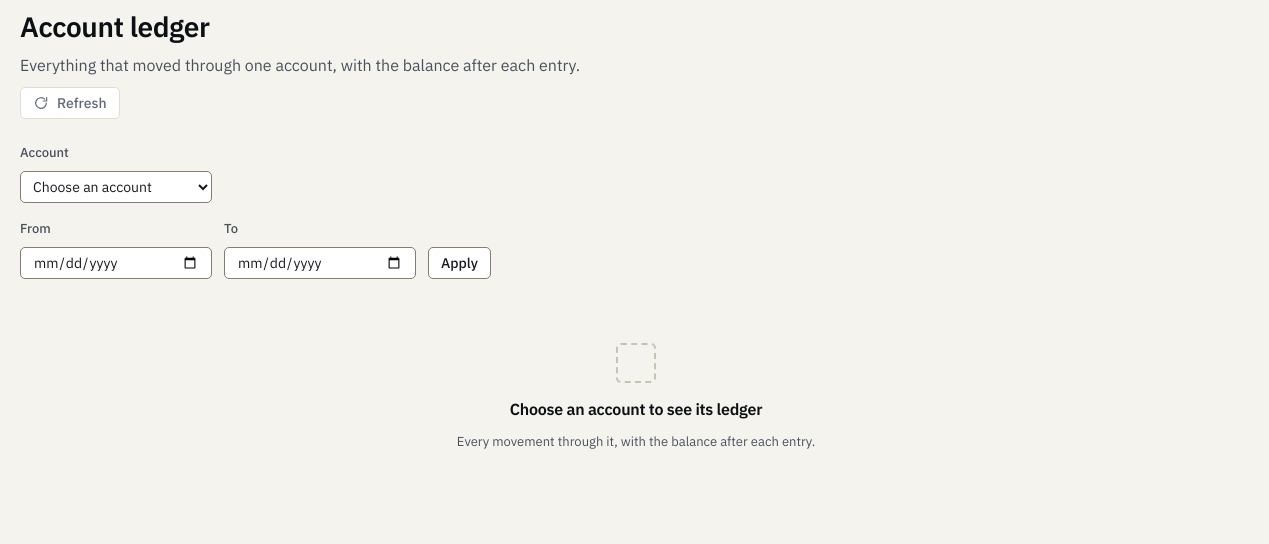
Scenario: AccountLedger › shows the running balance against each movement
Select "1210 · Bank Account" in the dropdown labelled "Account" at (116, 187), box [20,171,212,203]
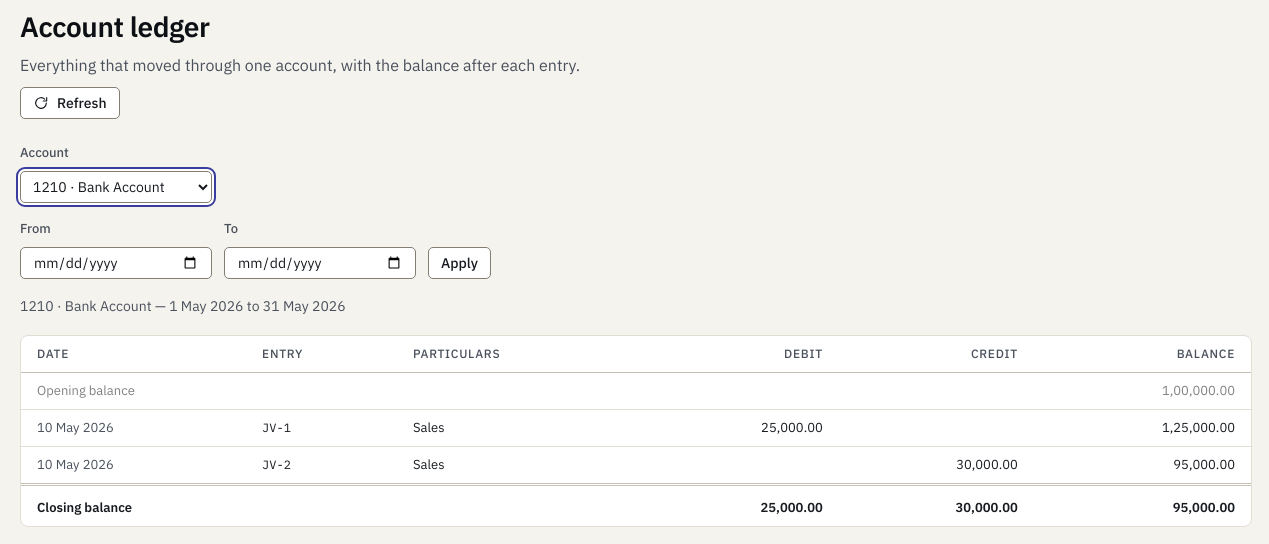
expect the text "1,25,000.00" is shown: met, box [1034,409,1251,446]
expect the text "95,000.00" in the row of "JV-2" is shown: met, box [1173,456,1235,473]
expect the text "30,000.00" in the row of "JV-2" is shown: met, box [956,456,1018,473]
